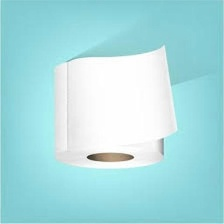tissue: (48, 39, 182, 175)
